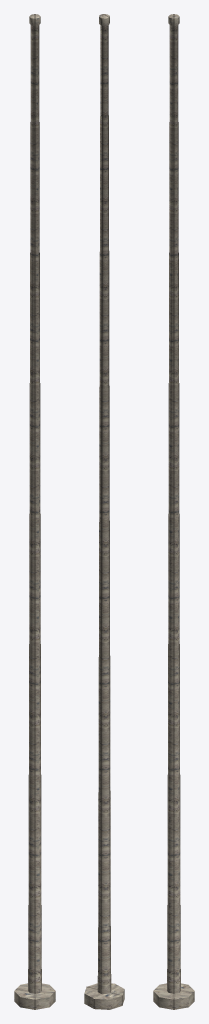
File: SM_Morin_AstaBandiera_LOD1.fbx
The picture shows the model from 3 angles, left to right: view 1: azimuth 90°, elevation 25°; view 2: azimuth 150°, elevation 25°; view 3: azimuth 270°, elevation 25°; orthographic projection.
Parts seen in each view (by area): view 1: SM_Morin_AstaBandiera_LOD1; view 2: SM_Morin_AstaBandiera_LOD1; view 3: SM_Morin_AstaBandiera_LOD1.
Part boxes in pixels (x1,y1,x2,y2): SM_Morin_AstaBandiera_LOD1: (14, 14, 55, 1009); SM_Morin_AstaBandiera_LOD1: (84, 14, 124, 1009); SM_Morin_AstaBandiera_LOD1: (153, 14, 194, 1009).
Size of the model in its own units: 44 by 44 by 1152.
1 material, 1 textured.
